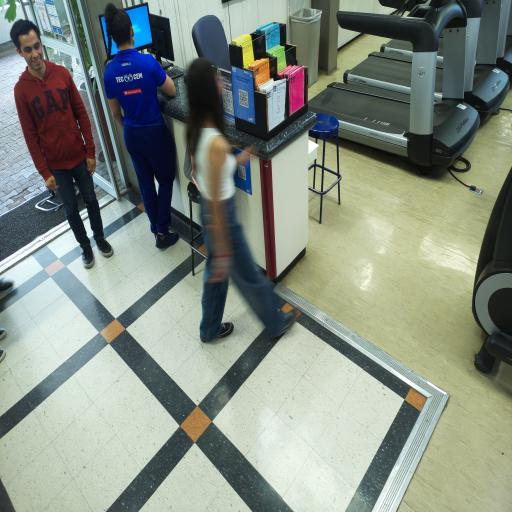person: (187, 59, 297, 341), (11, 20, 113, 268), (104, 4, 178, 248), (0, 278, 13, 298)
